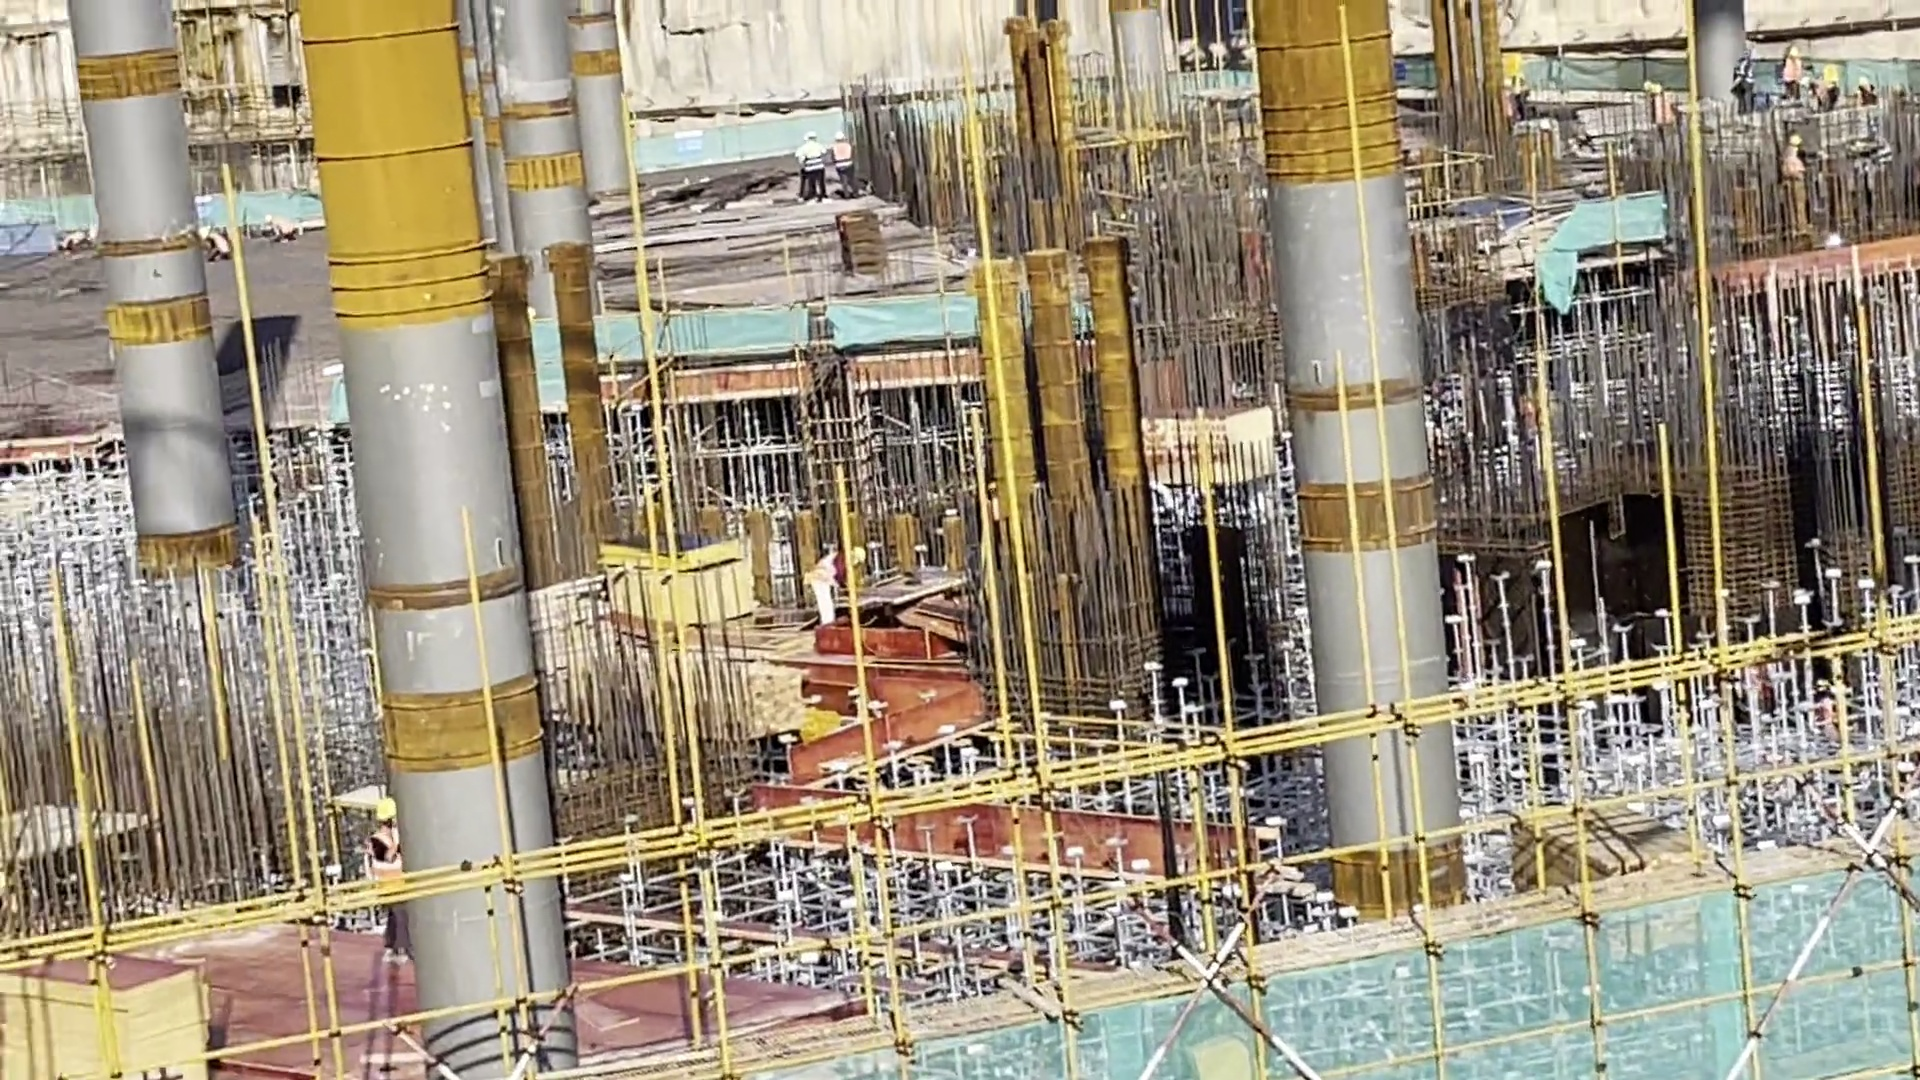helmet: (371, 796, 399, 820), (1788, 130, 1808, 153), (1782, 37, 1800, 58), (1643, 79, 1665, 96), (852, 545, 866, 563)
person: (357, 794, 419, 961), (808, 536, 865, 626), (1645, 74, 1681, 141), (833, 132, 863, 197), (804, 132, 826, 202), (1779, 41, 1801, 105), (199, 227, 233, 262), (1784, 138, 1811, 183), (264, 215, 301, 242), (1858, 77, 1878, 106)
vest: (372, 829, 403, 873), (814, 556, 843, 582), (1654, 98, 1674, 122), (1784, 57, 1799, 84), (1789, 150, 1805, 173), (807, 149, 820, 170), (835, 147, 851, 160)
